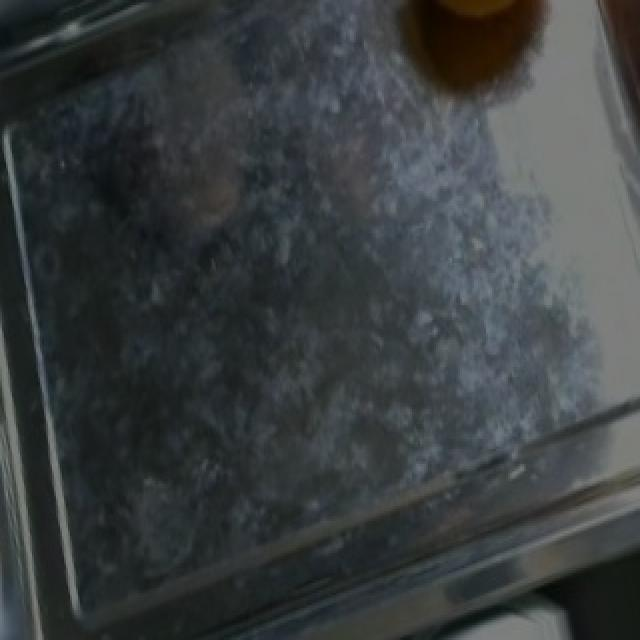Fruit: (374, 0, 588, 47), (580, 0, 640, 139)
